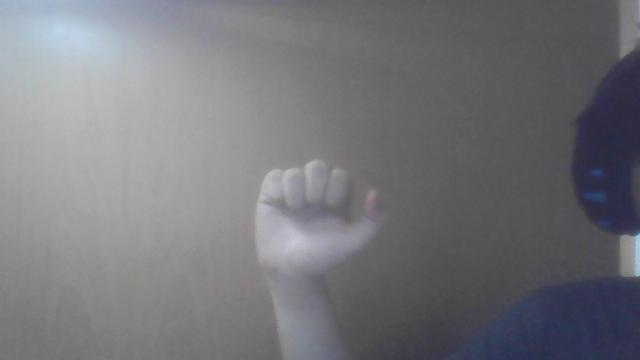forward: (253, 159, 385, 359)
